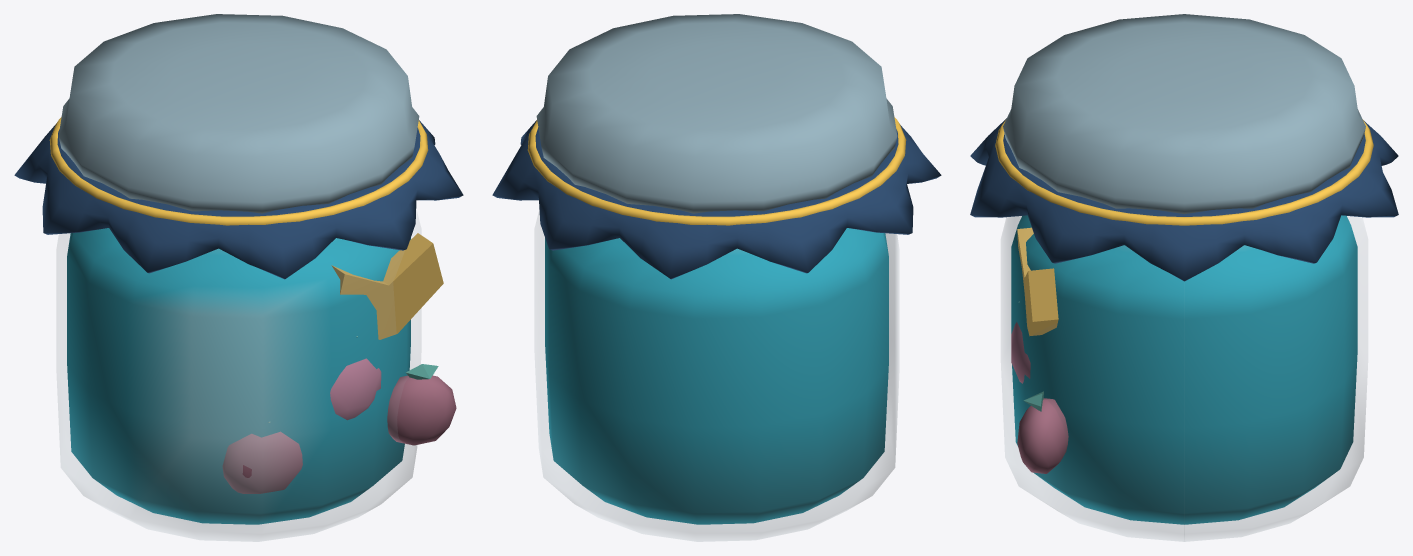
The model's file is Ocean_Bait.glb.
3 views of the same model, side by side, from view 1: azimuth 30°, elevation 25°; view 2: azimuth 150°, elevation 25°; view 3: azimuth 270°, elevation 25° (orthographic).
Visible parts, largest first — view 1: JAR_Jelly, JAR_Glass, JAR_Lid, JAR_Paper, OceanGoldfishTail, JAR_Twine, OceanBerry_A, OceanBerry_C, OceanBerry_B; view 2: JAR_Jelly, JAR_Lid, JAR_Glass, JAR_Paper, JAR_Twine; view 3: JAR_Jelly, JAR_Lid, JAR_Glass, JAR_Paper, JAR_Twine, OceanBerry_C, OceanGoldfishTail, OceanBerry_B.
Part boxes in pixels (x1,y1,x2,y2): JAR_Jelly: (67,228,410,524); JAR_Glass: (57,210,420,541); JAR_Lid: (58,14,419,213); JAR_Paper: (14,120,463,279); OceanGoldfishTail: (331,233,443,339); JAR_Twine: (49,117,428,225); OceanBerry_A: (222,431,302,493); OceanBerry_C: (387,375,456,445); OceanBerry_B: (330,358,381,420); JAR_Jelly: (545,228,888,524); JAR_Lid: (536,14,897,213); JAR_Glass: (535,214,898,541); JAR_Paper: (492,120,941,279); JAR_Twine: (527,117,906,225); JAR_Jelly: (1011,215,1357,524); JAR_Lid: (1003,14,1365,214); JAR_Glass: (1001,216,1367,541); JAR_Paper: (970,118,1398,281); JAR_Twine: (995,120,1373,225); OceanBerry_C: (1017,398,1068,473); OceanGoldfishTail: (1017,227,1058,336); OceanBerry_B: (1011,322,1030,383).
Bounding box in the file's own units: 1.06 × 1.05 × 1.
